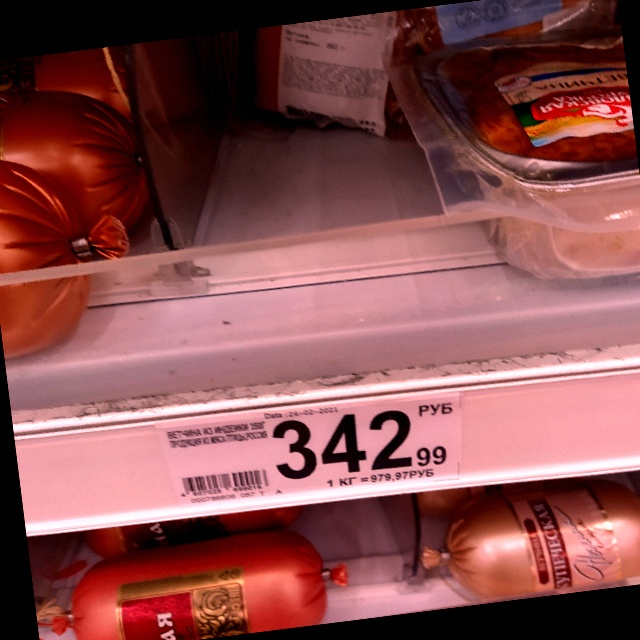barcode: (175, 467, 271, 501)
name: (164, 417, 268, 452)
price: (271, 399, 460, 488)
price_tag: (163, 391, 462, 513)
